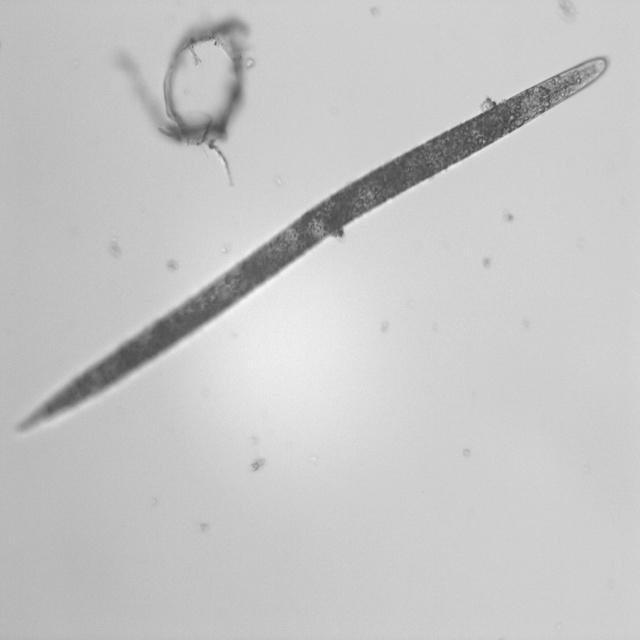Radopholus: (16, 49, 616, 436)
